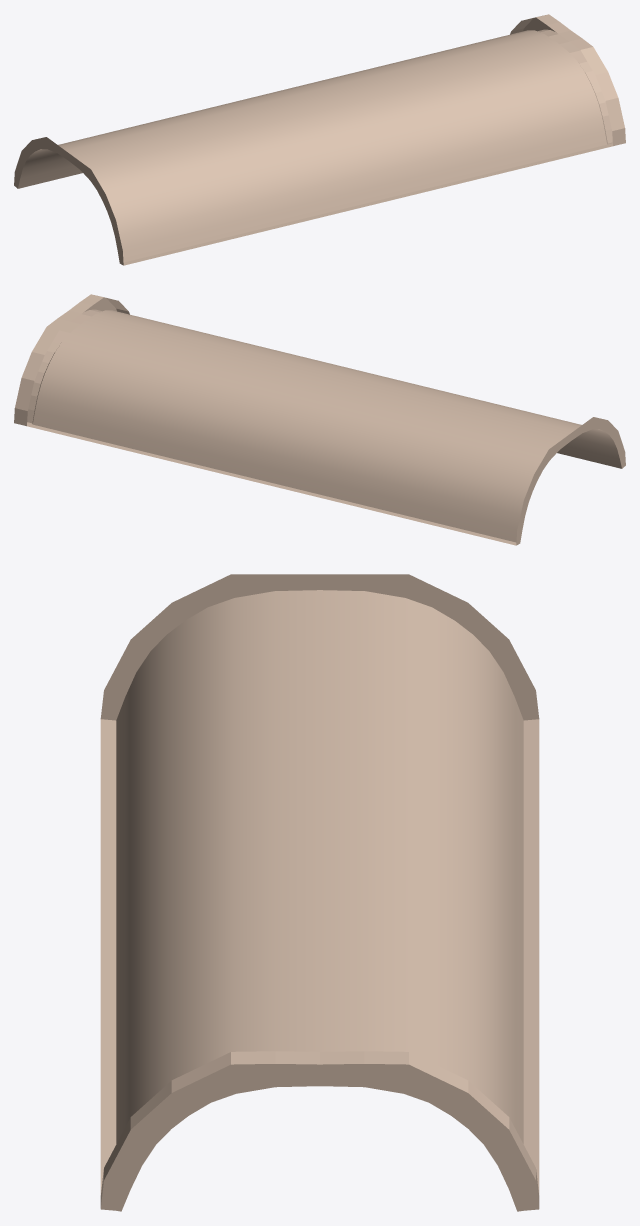
The model's file is BC_Insideceiling_B.fbx.
3 views of the same model, one above another, from view 1: azimuth 30°, elevation 25°; view 2: azimuth 150°, elevation 25°; view 3: azimuth 270°, elevation 25° (orthographic). The views are drawn at different scales.
Visible parts, largest first — view 1: BC_Insideceiling_B; view 2: BC_Insideceiling_B; view 3: BC_Insideceiling_B.
Boxes of the visible parts, <box> form: BC_Insideceiling_B: <box>14,14,625,265</box>; BC_Insideceiling_B: <box>14,294,625,545</box>; BC_Insideceiling_B: <box>100,574,539,1211</box>.
Size of the model in its own units: 5944 by 836 by 2248.
